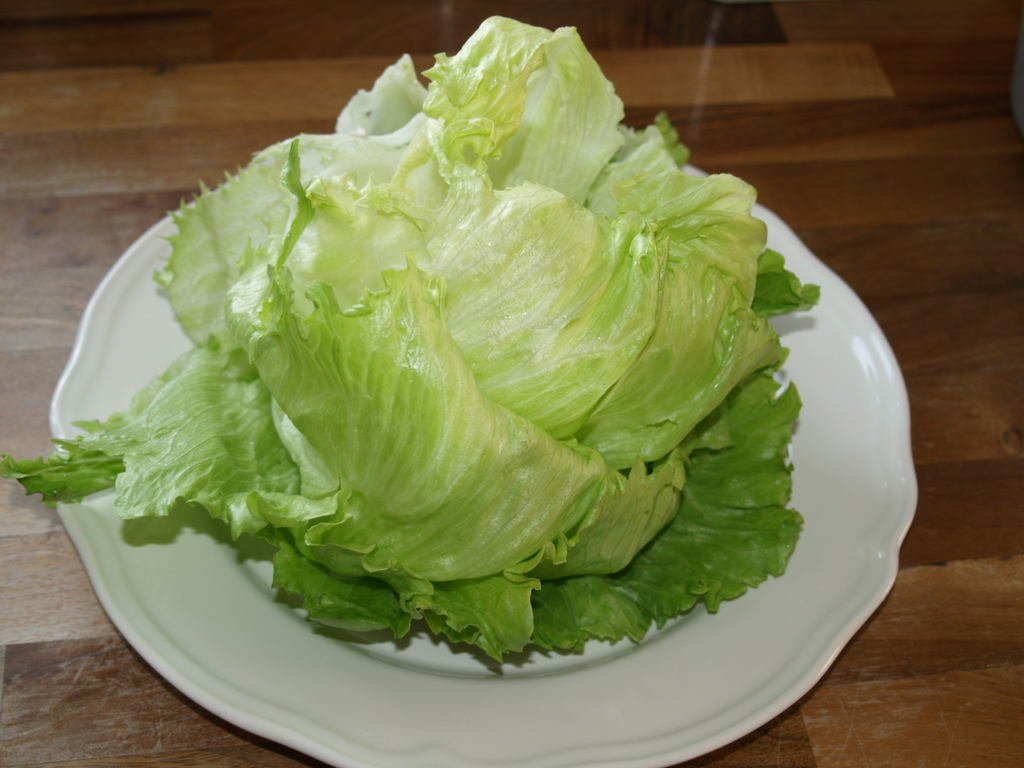Cabbage: (0, 15, 820, 663)
